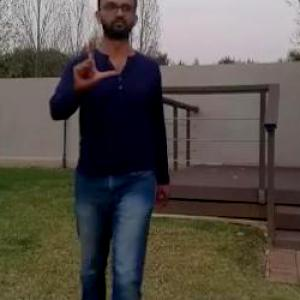land_hand: (67, 30, 120, 92)
